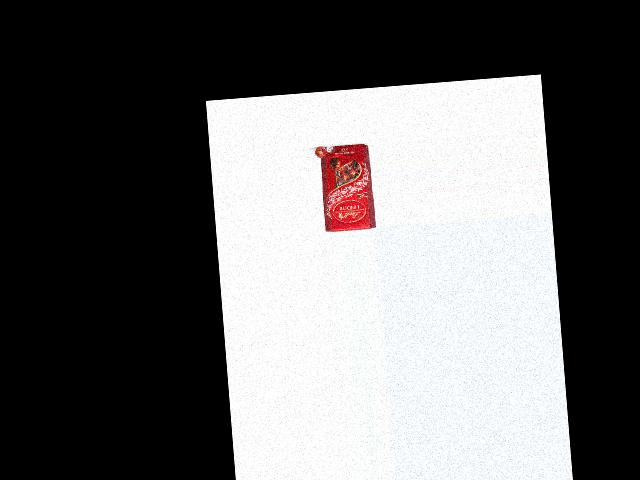chocolate: (313, 143, 374, 232)
